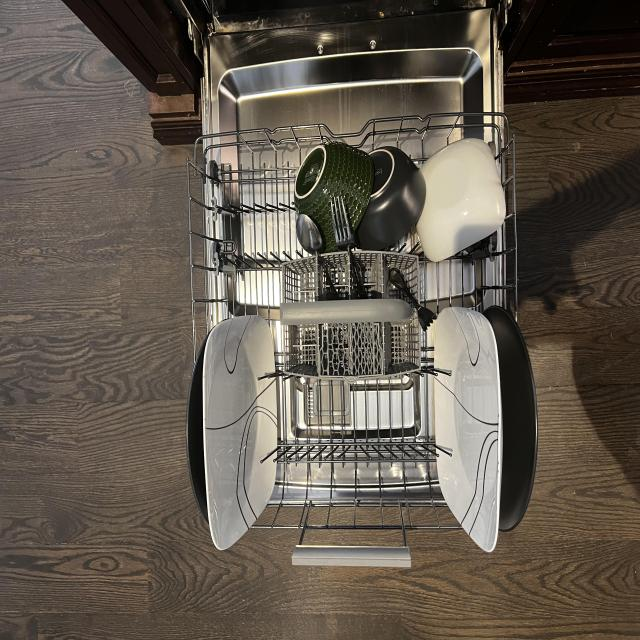Bowl: (293, 141, 376, 255)
Fork: (329, 192, 369, 300), (387, 262, 441, 336)
Plate: (204, 311, 278, 555), (432, 306, 502, 559)
Spoon: (296, 207, 344, 300)
